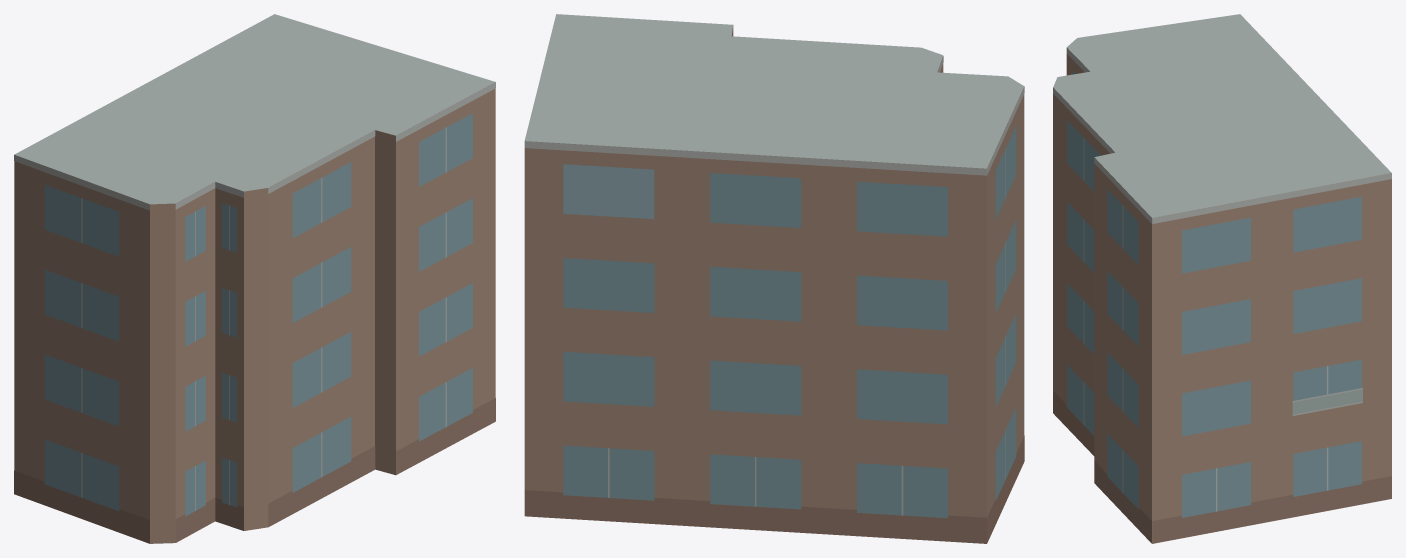
Rendered from survey-upis-32850514.glb.
3 renders of one model, left to right at view 1: azimuth 30°, elevation 25°; view 2: azimuth 150°, elevation 25°; view 3: azimuth 270°, elevation 25°, orthographic. The views are drawn at different scales.
Visible parts, largest first — view 1: survey-upis-32850514.tmp; view 2: survey-upis-32850514.tmp; view 3: survey-upis-32850514.tmp.
Part boxes in pixels (<box>): survey-upis-32850514.tmp: <box>14,14,495,543</box>; survey-upis-32850514.tmp: <box>524,14,1024,543</box>; survey-upis-32850514.tmp: <box>1053,14,1391,543</box>.
Size of the model in its own units: 17.53 by 13.05 by 12.3.
